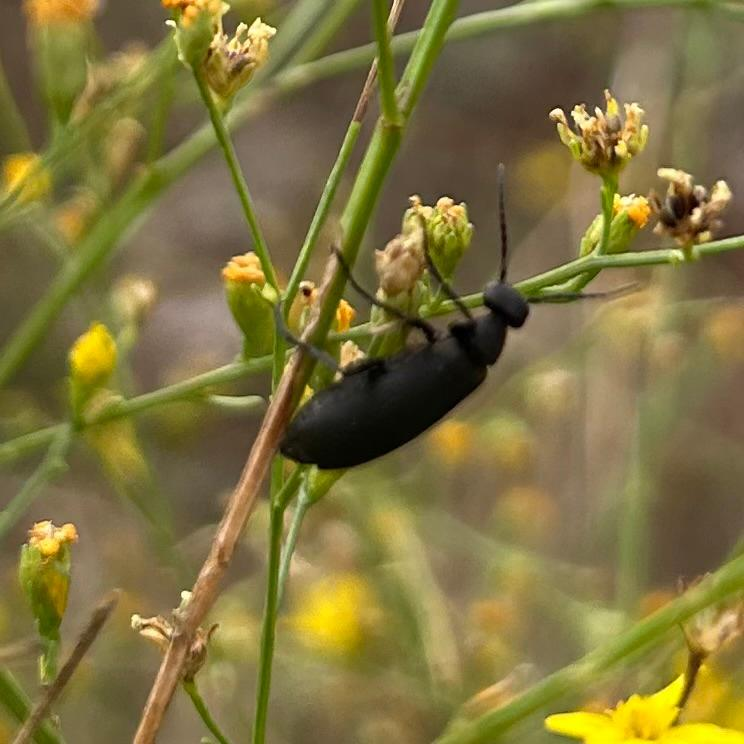blister_beetle: (211, 124, 663, 585)
